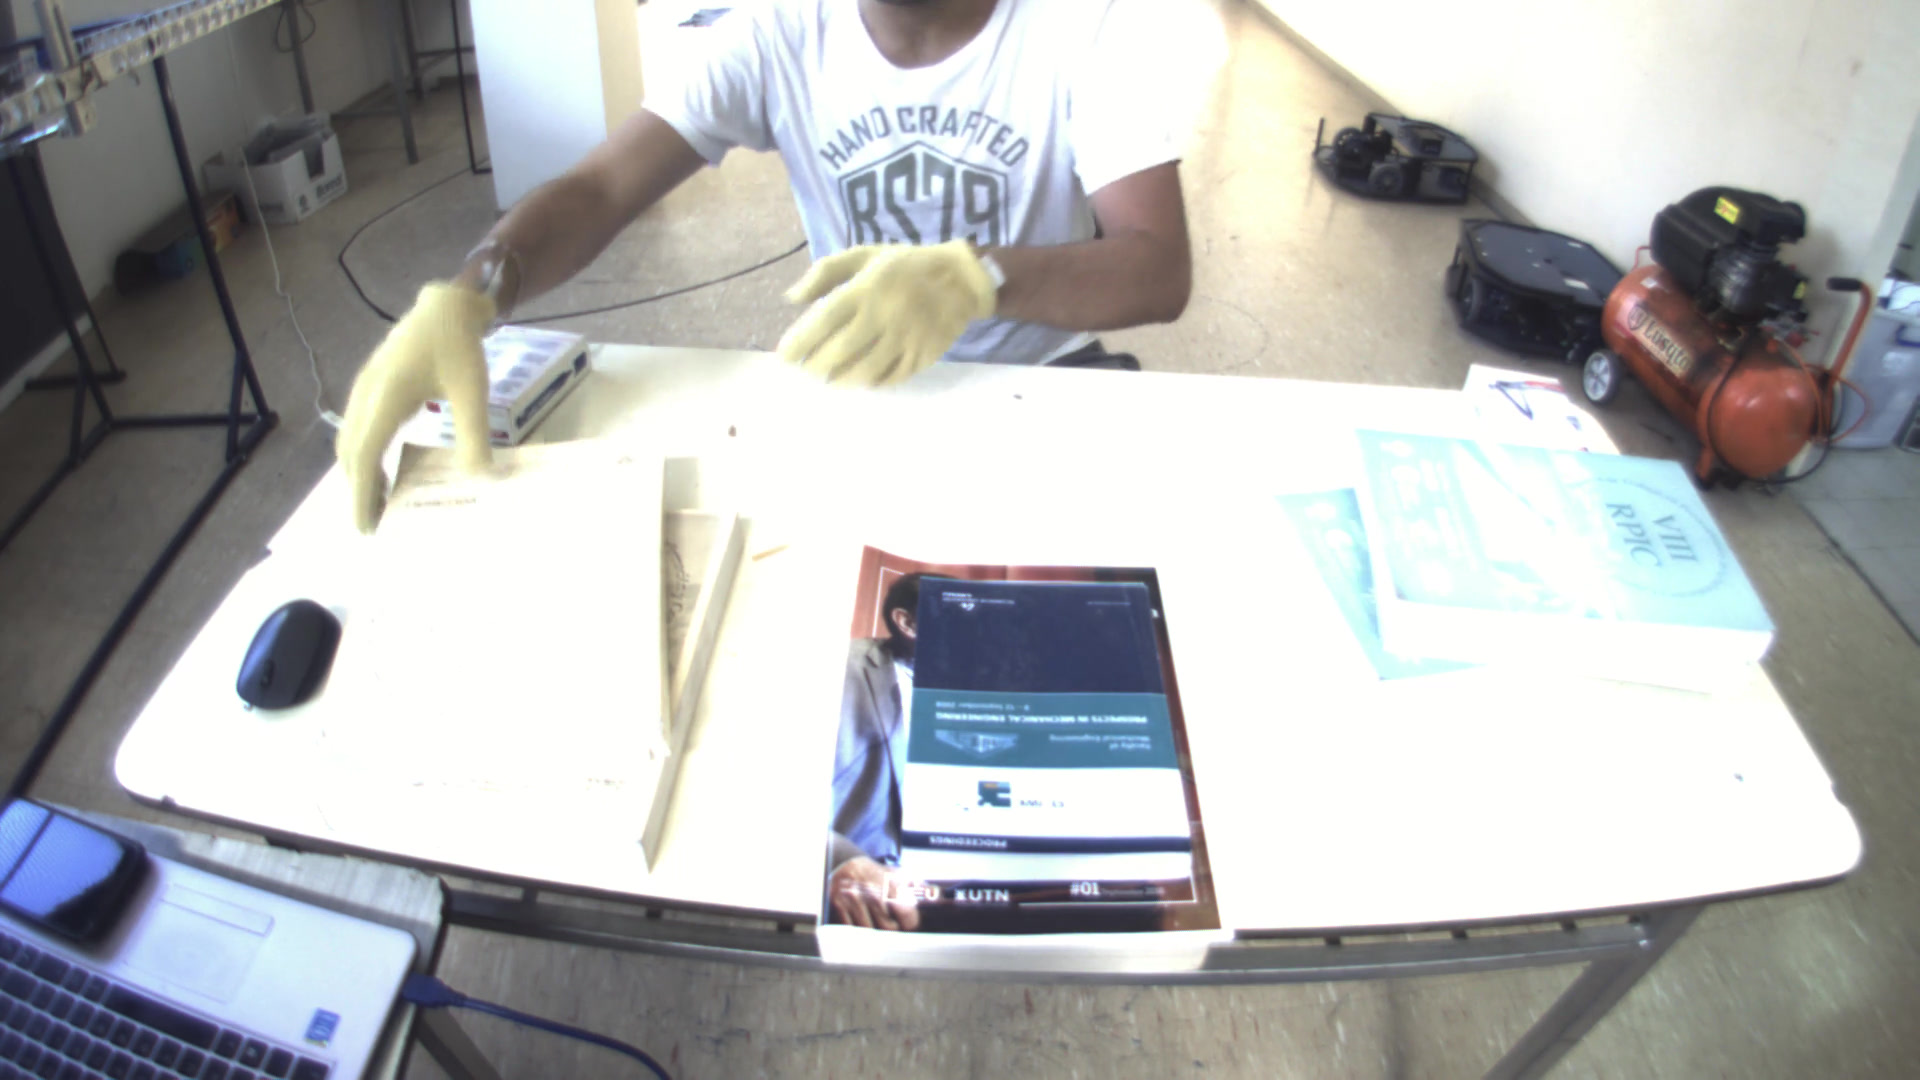hand: (322, 261, 500, 538), (769, 214, 1005, 392)
